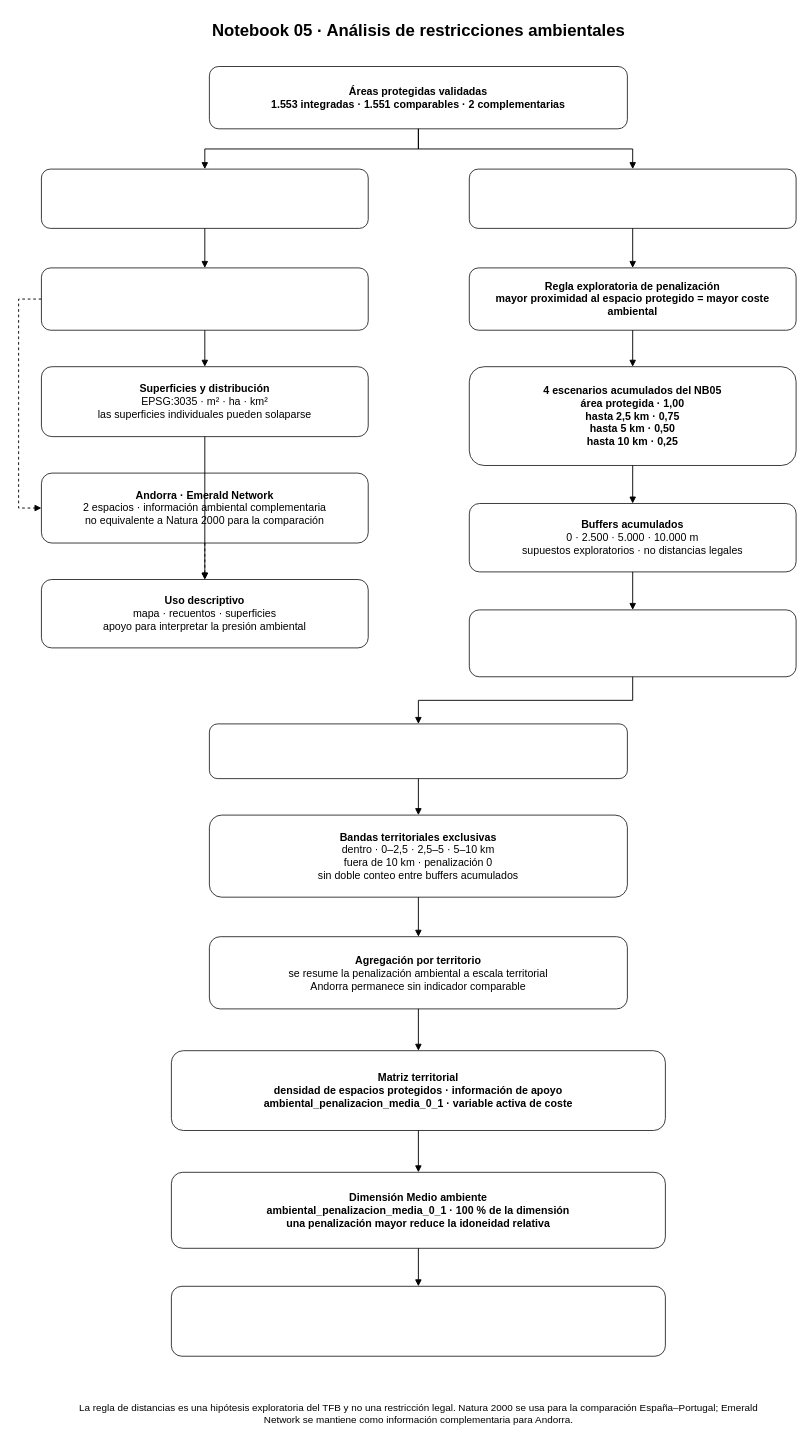
Image size: 810x1447. Some labels were removed from this diagram. The shapes that lost their labels are listed below. From the top down, each one's box as (x1, y1, x2, y2) in pixels, then its label:
(41, 168, 368, 228): Lectura descriptiva 1.553 espacios · España · Portugal · Andorra
(469, 168, 796, 228): Análisis comparable 1.551 espacios Natura 2000 · España + Portugal
(41, 267, 368, 330): Cobertura por país España 1.449 · Portugal 102 · Andorra 2
(469, 609, 796, 677): Entrada comparable al Notebook 10 capa de 1.551 espacios + tabla de 4 escenarios
(209, 723, 627, 779): Notebook 10 · territorialización ambiental
(171, 1286, 665, 1356): Índice de Idoneidad Territorial para Centros de Procesamiento de Datos IIT-CPD
